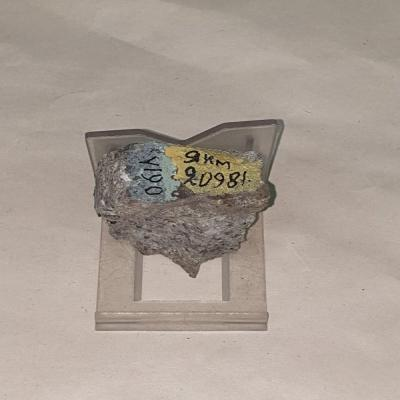mineralogy: (84, 120, 285, 279)
